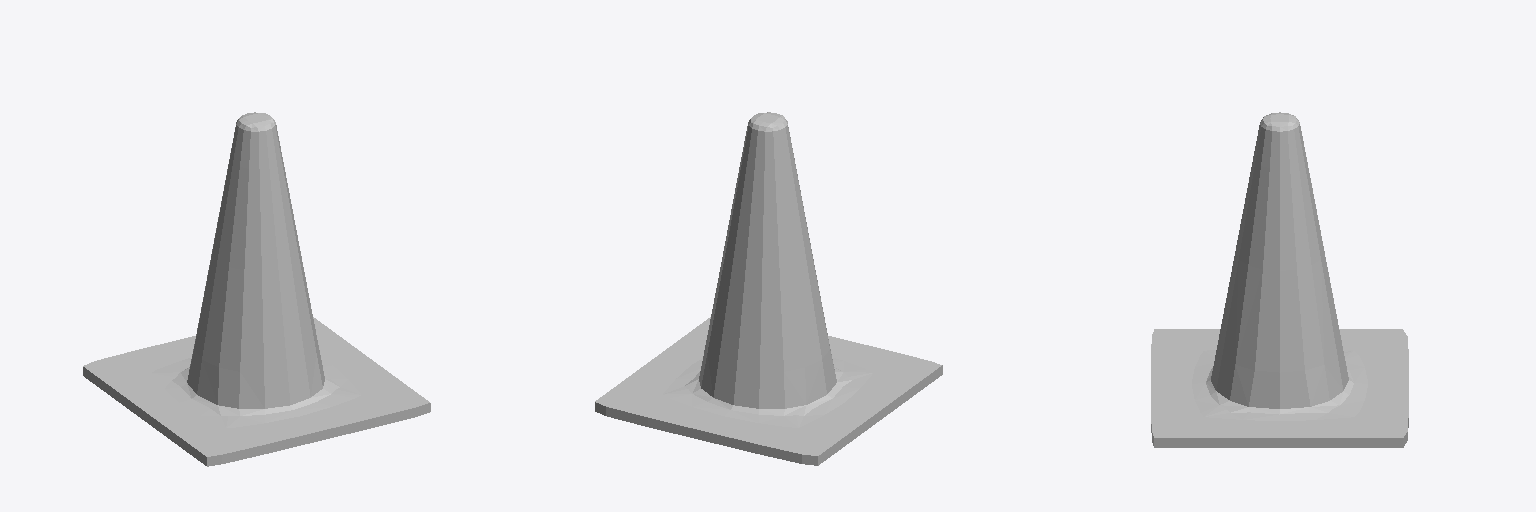
File: lwpltrfccon2.obj
3 views of the same model, side by side, from view 1: azimuth 30°, elevation 25°; view 2: azimuth 150°, elevation 25°; view 3: azimuth 270°, elevation 25° (orthographic).
Parts seen in each view (by area): view 1: Cube.001; view 2: Cube.001; view 3: Cube.001.
Part boxes in pixels (x1,y1,x2,y2): Cube.001: (83,112,430,466); Cube.001: (595,112,942,465); Cube.001: (1151,112,1408,447).
Size of the model in its own units: 2.47 by 2.91 by 2.47.